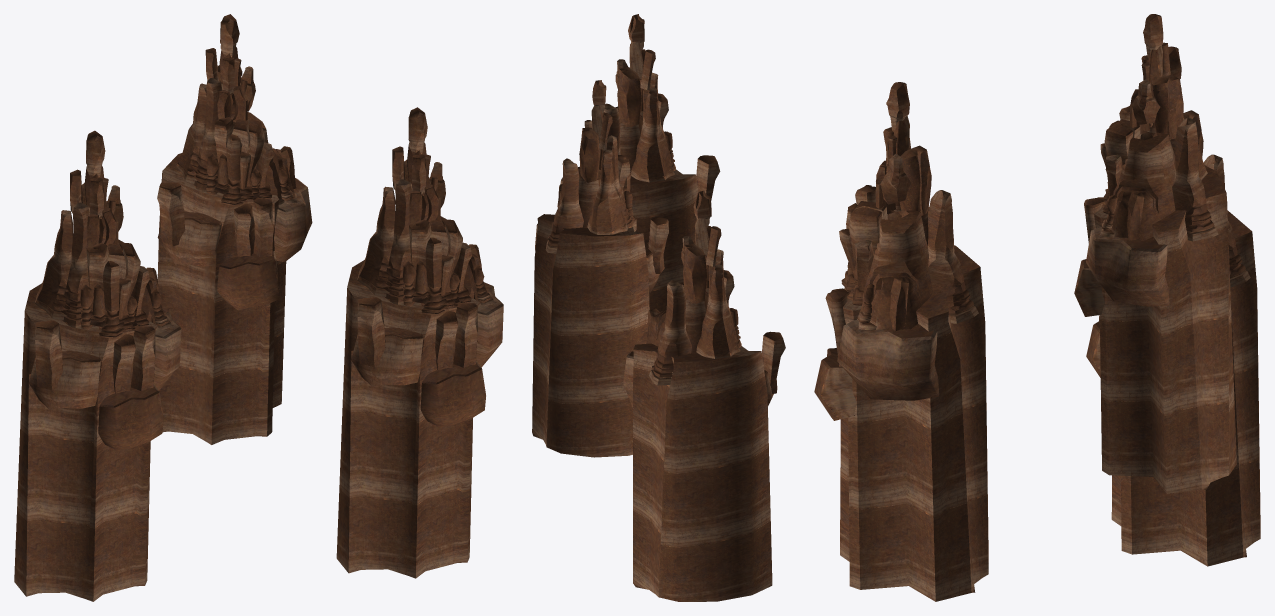
Rendered from HighRocks.obj.
3 renders of one model, left to right at view 1: azimuth 30°, elevation 25°; view 2: azimuth 150°, elevation 25°; view 3: azimuth 270°, elevation 25°, orthographic. The views are drawn at different scales.
Visible parts, largest first — view 1: ghz01C_km_mountA_01.002, ghz01C_km_mountA_01.001, ghz03_km_mountA_08.002; view 2: ghz01C_km_mountA_01.001, ghz03_km_mountA_08.002, ghz01C_km_mountA_01.002; view 3: ghz01C_km_mountA_01.002, ghz03_km_mountA_08.002, ghz01C_km_mountA_01.001.
Part boxes in pixels (box(x1,y1,x2,y2)): ghz01C_km_mountA_01.002: box(336, 107, 503, 578); ghz01C_km_mountA_01.001: box(14, 130, 181, 601); ghz03_km_mountA_08.002: box(157, 14, 312, 444); ghz01C_km_mountA_01.001: box(623, 190, 785, 601); ghz03_km_mountA_08.002: box(532, 80, 668, 457); ghz01C_km_mountA_01.002: box(557, 14, 720, 311); ghz01C_km_mountA_01.002: box(814, 82, 988, 601); ghz03_km_mountA_08.002: box(1074, 14, 1236, 493); ghz01C_km_mountA_01.001: box(1086, 46, 1260, 566).
Size of the model in its own units: 1.62 by 2.31 by 1.58.
1 material, 1 textured.
